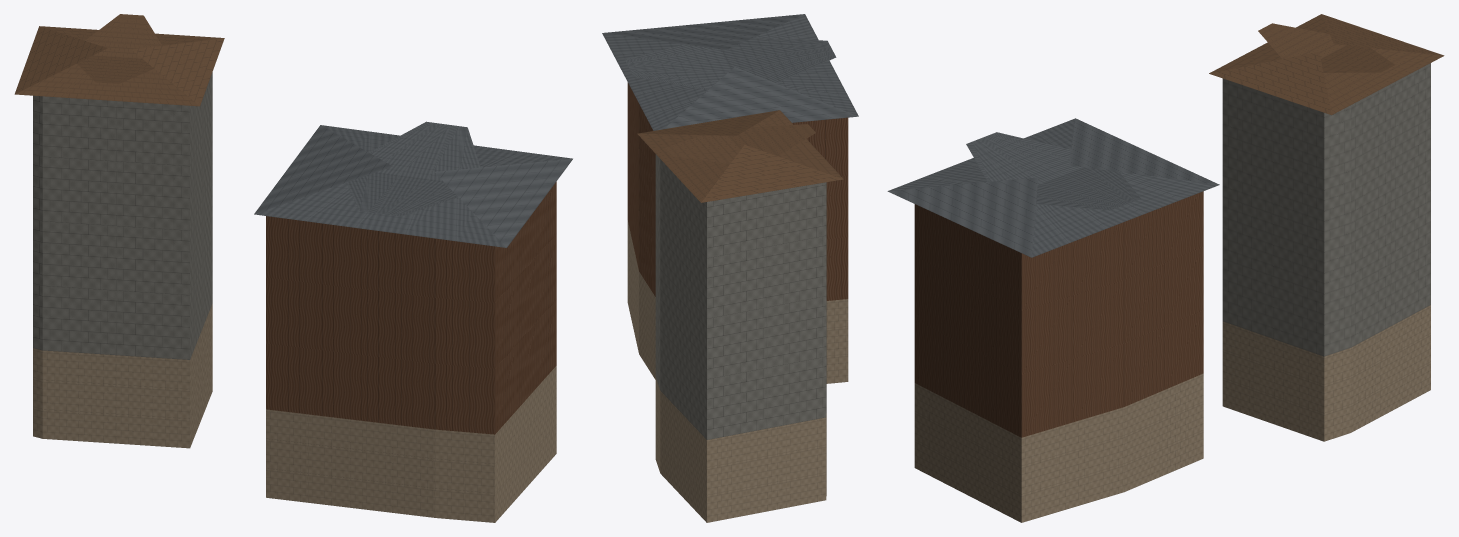
Rendered from bld_c17_24_433.gltf.
3 views of the same model, side by side, from view 1: azimuth 30°, elevation 25°; view 2: azimuth 150°, elevation 25°; view 3: azimuth 270°, elevation 25° (orthographic). The views are drawn at different scales.
Visible parts, largest first — view 1: bld_c17_24_433; view 2: bld_c17_24_433; view 3: bld_c17_24_433.
Part boxes in pixels (x1,y1,x2,y2): bld_c17_24_433: [14, 14, 572, 522]; bld_c17_24_433: [602, 14, 858, 522]; bld_c17_24_433: [887, 14, 1444, 522].
Size of the model in its own units: 24.67 by 21 by 30.26.
5 materials, 5 textured.
